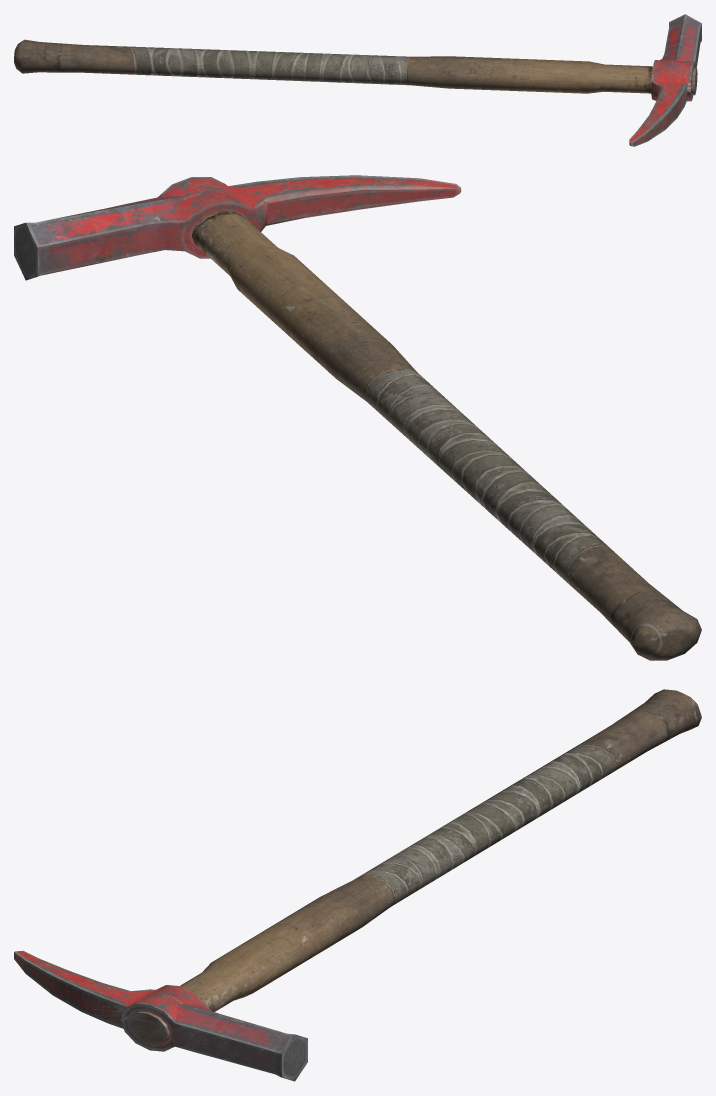
Rendered from sledge-hammer.fbx.
3 views of the same model, one above another, from view 1: azimuth 30°, elevation 25°; view 2: azimuth 150°, elevation 25°; view 3: azimuth 270°, elevation 25° (orthographic). The views are drawn at different scales.
Parts seen in each view (by area): view 1: Sledge hammer; view 2: Sledge hammer; view 3: Sledge hammer.
Boxes of the visible parts, box(x1,y1,x2,y2) form: Sledge hammer: box(14, 14, 701, 146); Sledge hammer: box(14, 175, 701, 660); Sledge hammer: box(14, 689, 701, 1081).
Size of the model in its own units: 61.18 by 3.7 by 48.79.
1 material, 1 textured.
